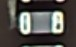COMP: (12, 6, 70, 39)
STAN: (8, 1, 17, 30)
